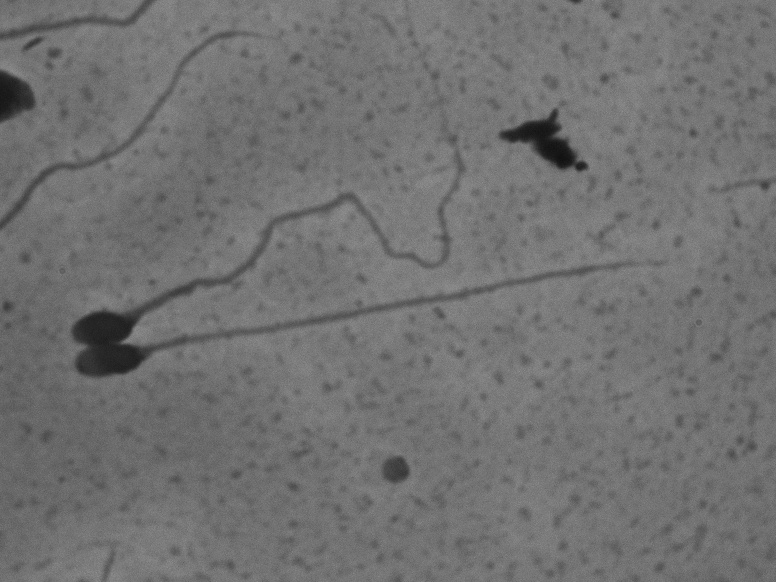Abnormal: (64, 83, 479, 349), (63, 246, 660, 389)
